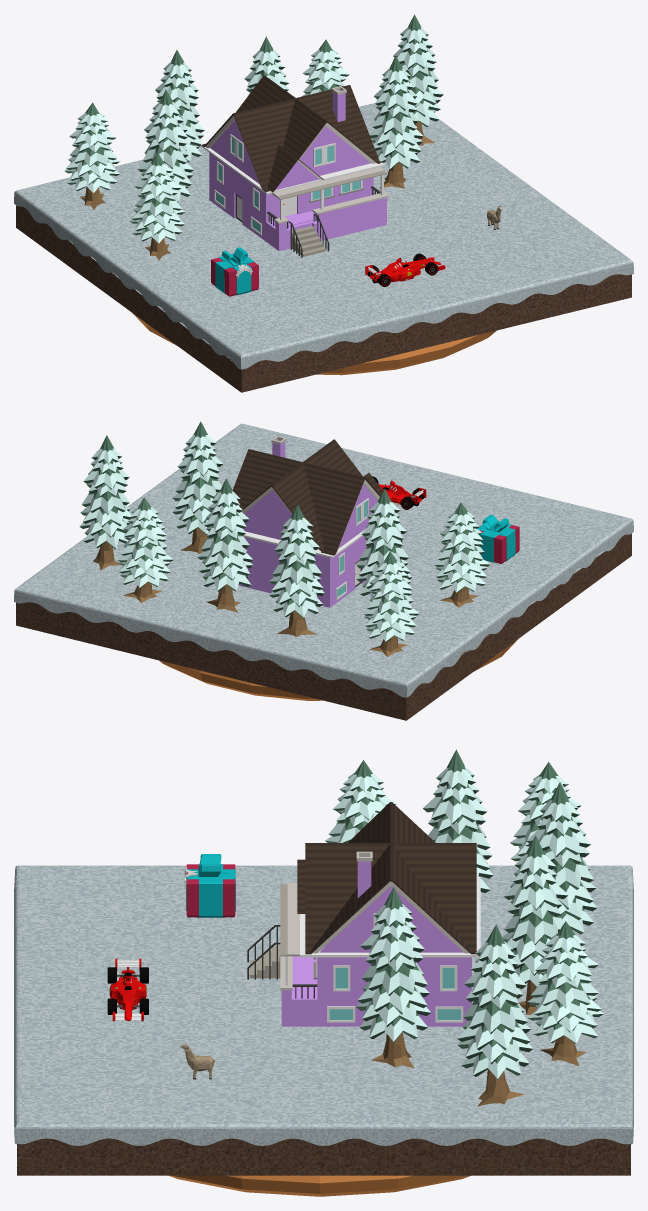
3 views of the same model, one above another, from view 1: azimuth 30°, elevation 25°; view 2: azimuth 150°, elevation 25°; view 3: azimuth 270°, elevation 25° (orthographic). The views are drawn at different scales.
Visible parts, largest first — view 1: Cube.003, Cube.391, UNDERGROUND_PIZZA, OBJRANDOM_GIANT_PRESENT, VEHICLES_FORMULA_1; view 2: Cube.003, Cube.391, UNDERGROUND_PIZZA, OBJRANDOM_GIANT_PRESENT, VEHICLES_FORMULA_1; view 3: Cube.003, Cube.391, UNDERGROUND_PIZZA, OBJRANDOM_GIANT_PRESENT, VEHICLES_FORMULA_1.
Boxes of the visible parts, bbox=[...] form: Cube.003: bbox=[14, 14, 633, 392]; Cube.391: bbox=[200, 75, 389, 257]; UNDERGROUND_PIZZA: bbox=[132, 313, 496, 375]; OBJRANDOM_GIANT_PRESENT: bbox=[211, 247, 258, 296]; VEHICLES_FORMULA_1: bbox=[365, 253, 445, 286]; Cube.003: bbox=[14, 421, 633, 720]; Cube.391: bbox=[232, 436, 402, 607]; UNDERGROUND_PIZZA: bbox=[159, 639, 517, 700]; OBJRANDOM_GIANT_PRESENT: bbox=[477, 514, 519, 563]; VEHICLES_FORMULA_1: bbox=[372, 476, 426, 509]; Cube.003: bbox=[14, 749, 633, 1175]; Cube.391: bbox=[247, 802, 480, 1026]; UNDERGROUND_PIZZA: bbox=[169, 1175, 470, 1196]; OBJRANDOM_GIANT_PRESENT: bbox=[184, 854, 235, 917]; VEHICLES_FORMULA_1: bbox=[107, 958, 148, 1021].
Bounding box in the file's own units: 4040 × 1904 × 4040.
Materials: 38 (3 with a texture image).
